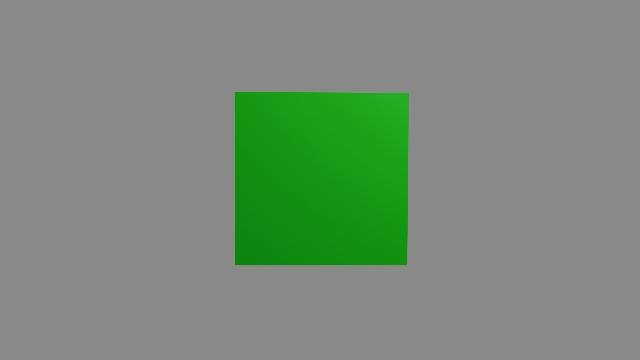Cube: (225, 87, 420, 277)
